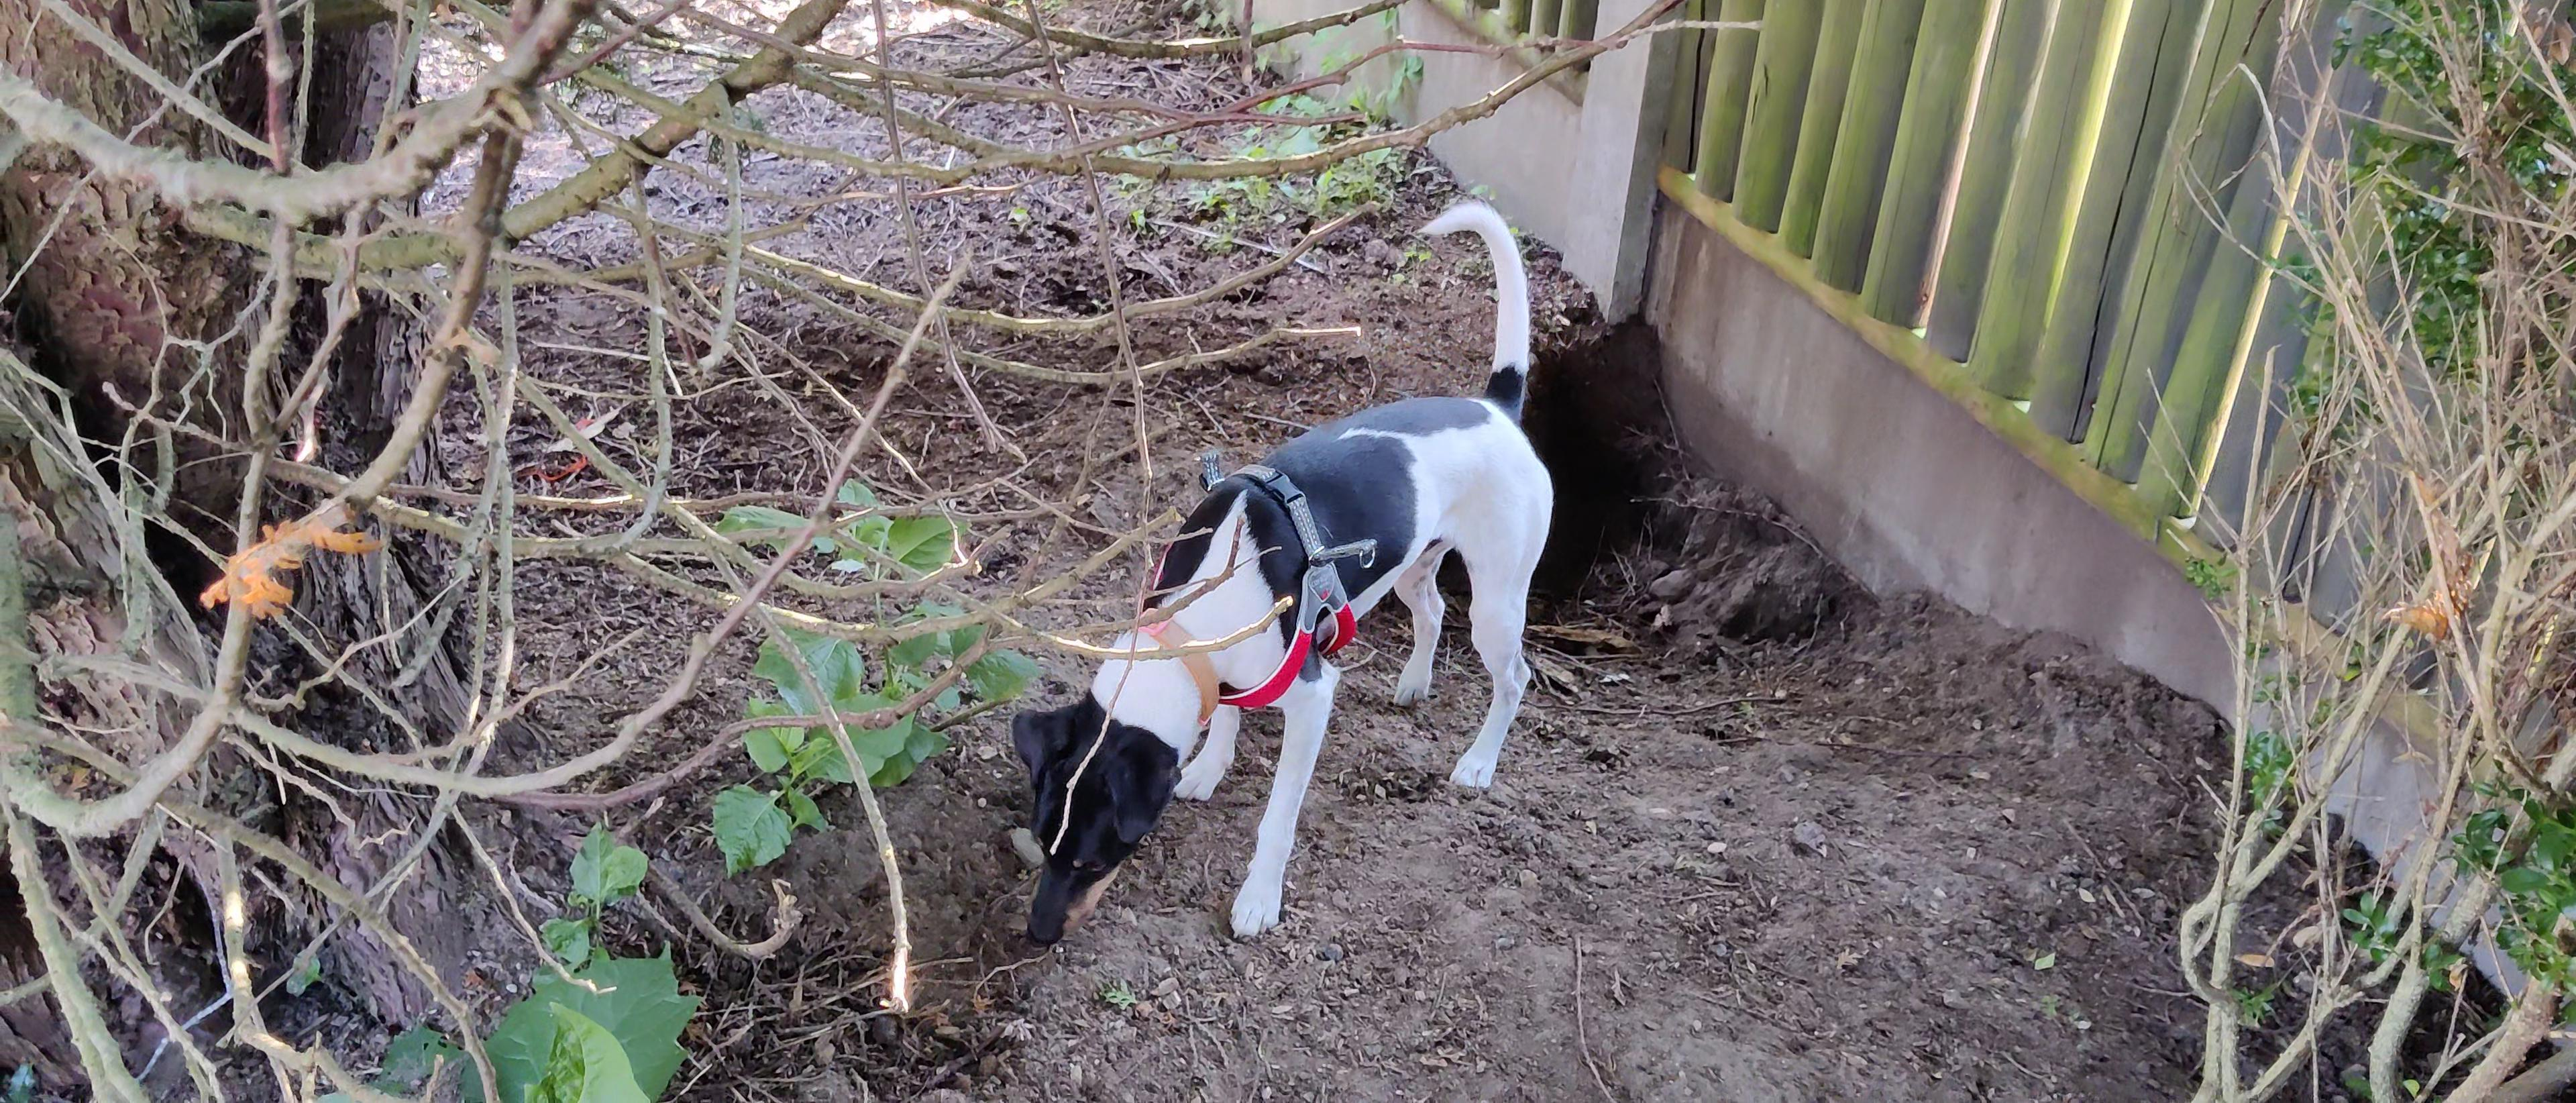Dog: (987, 194, 1571, 967)
